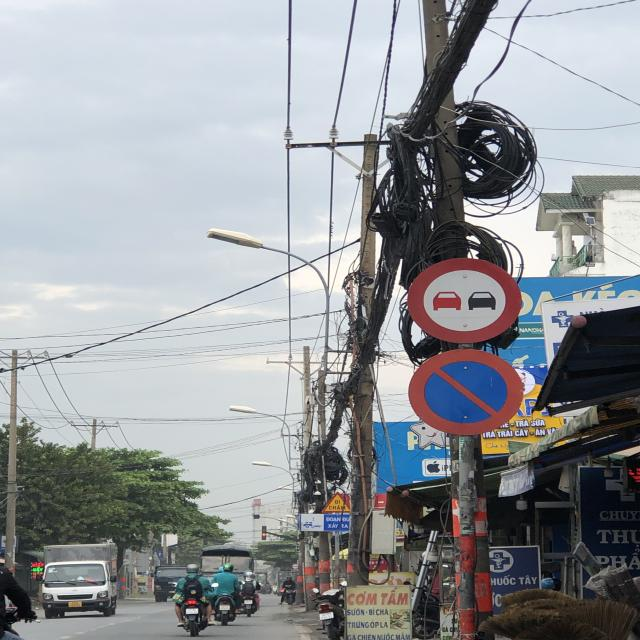Bien bao cam vuot: (401, 255, 530, 347)
